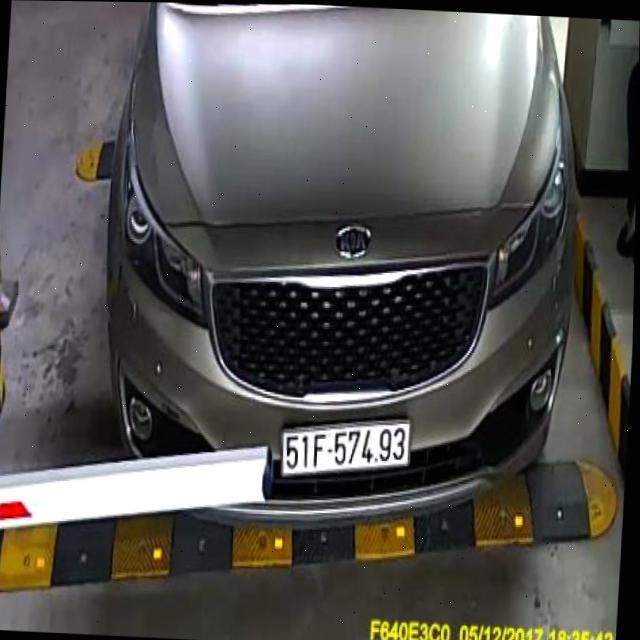car: (82, 1, 605, 552)
plate: (273, 410, 417, 483)
